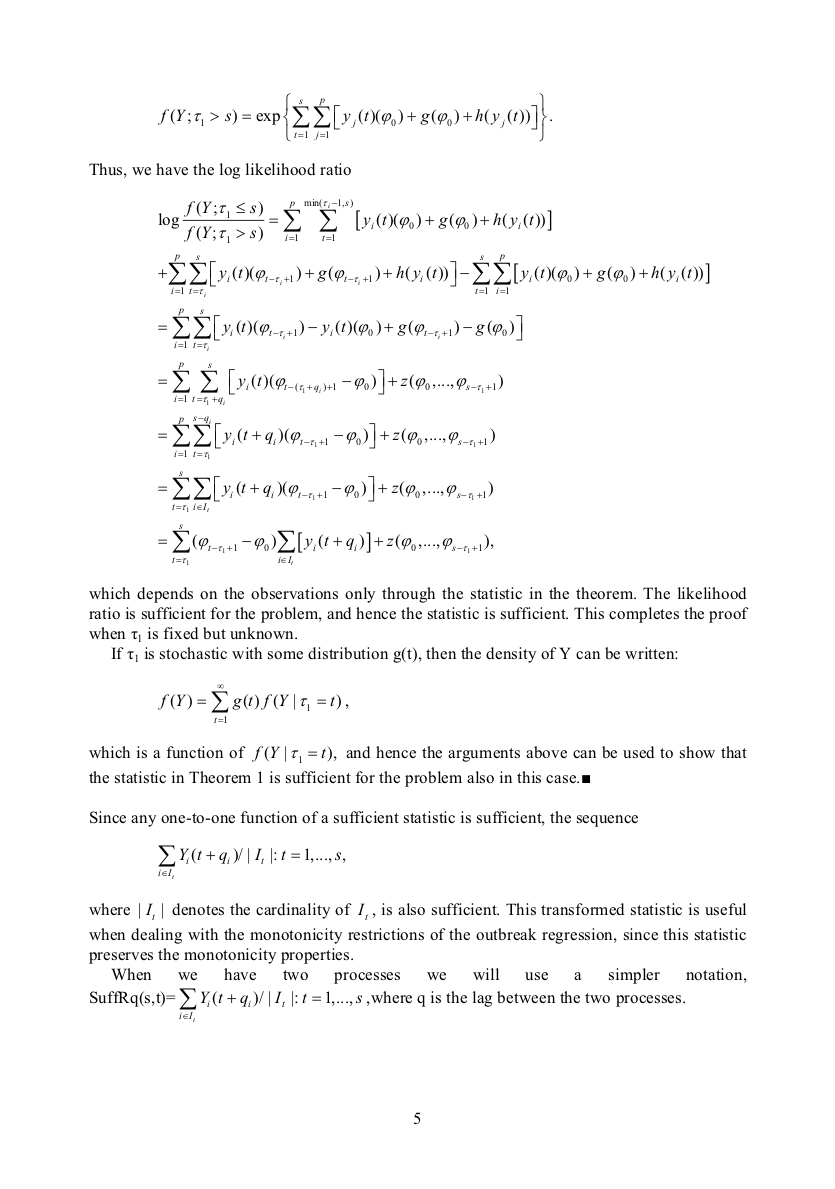formula: (158, 252, 709, 297), (158, 92, 551, 142), (158, 198, 551, 243), (158, 307, 522, 351), (158, 361, 502, 405), (158, 415, 494, 459), (158, 470, 492, 512), (158, 524, 493, 564), (158, 684, 348, 722), (158, 844, 345, 879)
